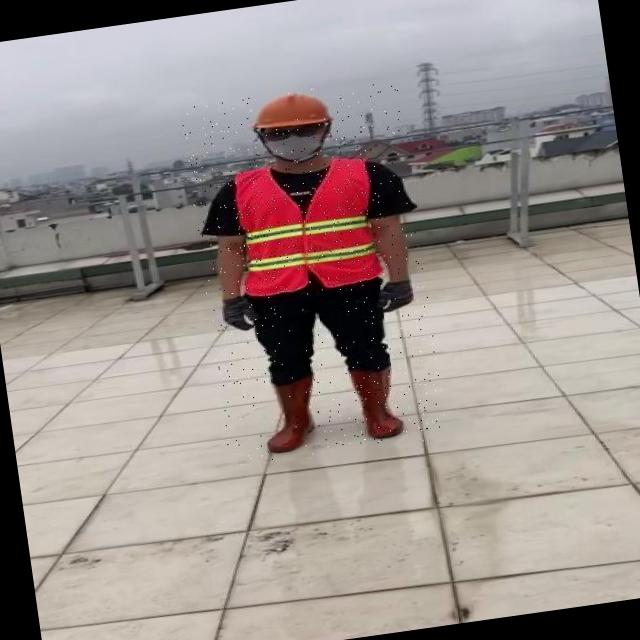boots: (254, 375, 322, 457), (344, 363, 412, 444)
gloves: (210, 276, 260, 342), (381, 264, 426, 332)
helmet: (248, 87, 338, 134)
vest: (227, 156, 392, 303)
